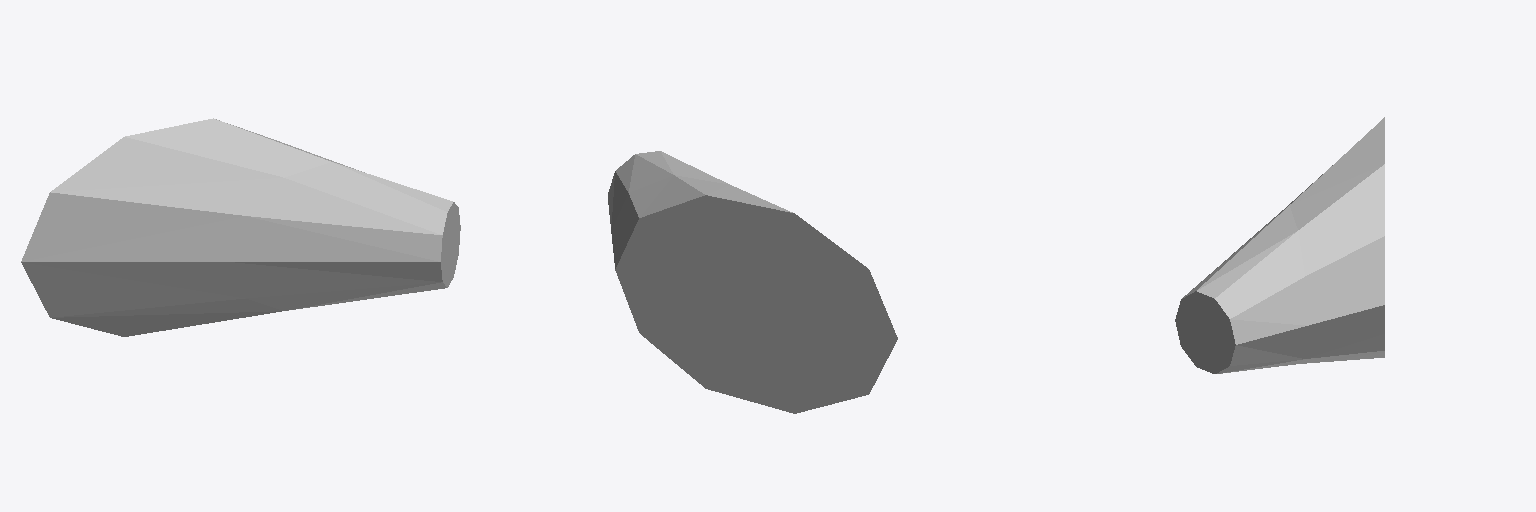
The model's file is original-39.obj.
The picture shows the model from 3 angles: view 1: azimuth 30°, elevation 25°; view 2: azimuth 150°, elevation 25°; view 3: azimuth 270°, elevation 25°; orthographic projection.
Parts seen in each view (by area): view 1: mesh28/mesh28-geometry#mesh28-geometry; view 2: mesh28/mesh28-geometry#mesh28-geometry; view 3: mesh28/mesh28-geometry#mesh28-geometry.
Part boxes in pixels (left/top/right/bottom): mesh28/mesh28-geometry#mesh28-geometry: left=21, top=118, right=460, bottom=336; mesh28/mesh28-geometry#mesh28-geometry: left=608, top=151, right=897, bottom=413; mesh28/mesh28-geometry#mesh28-geometry: left=1175, top=117, right=1384, bottom=373.
Bounding box in the file's own units: 0.0394 × 0.0207 × 0.0196.